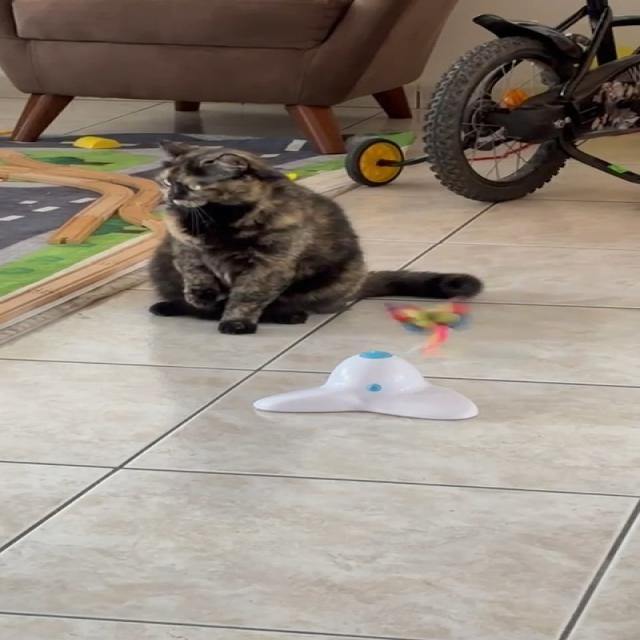authorized: (145, 138, 484, 334)
